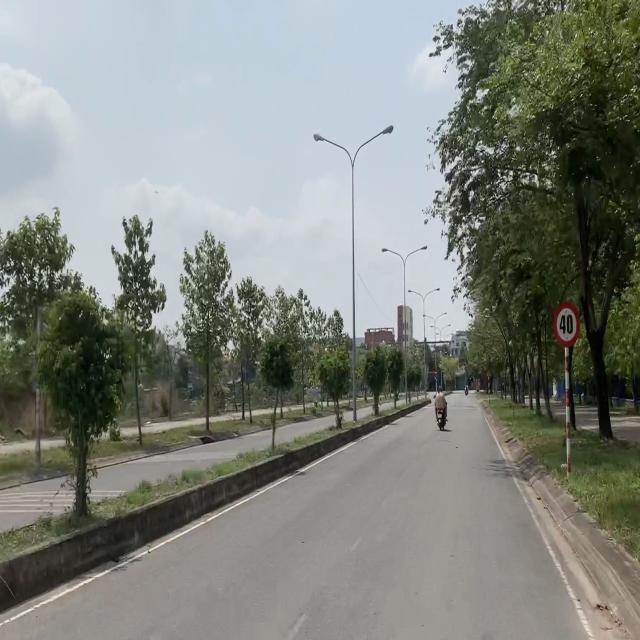Cam nguoc chieu: (434, 370, 438, 376)
Hieu lenh: (434, 376, 438, 382)
Toc do toi da: (553, 300, 580, 348)
